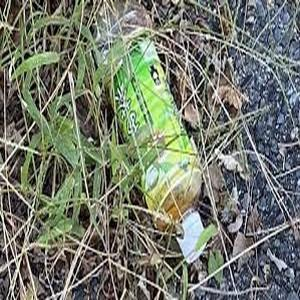Plastic: (91, 0, 211, 265)
